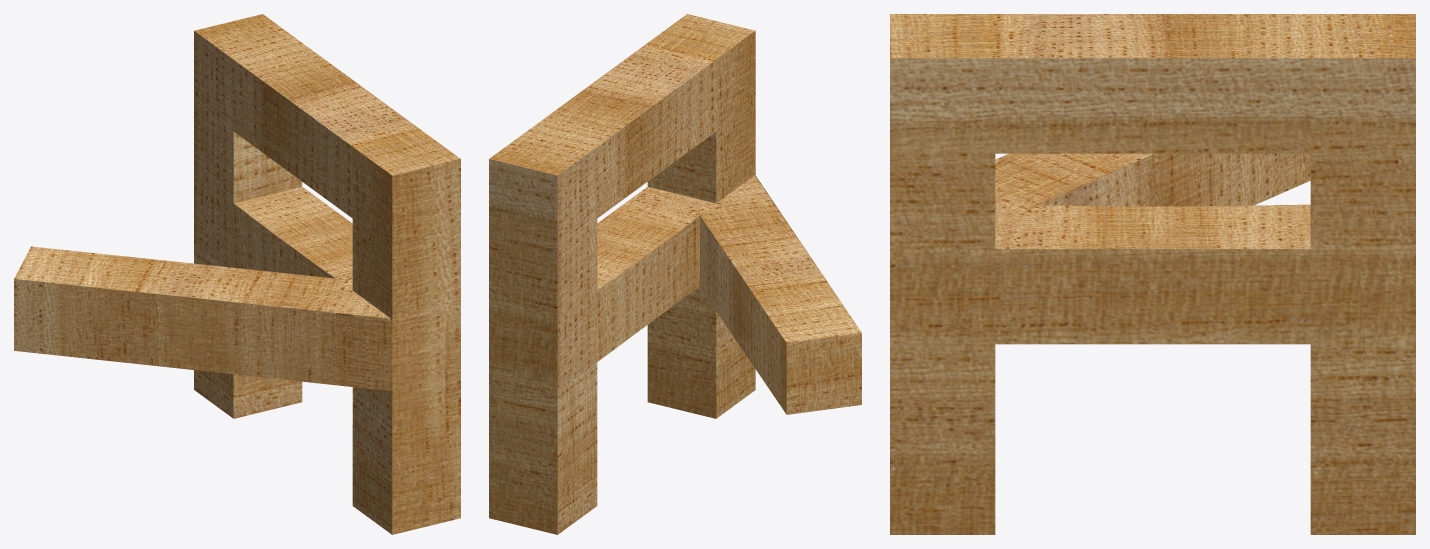
Rendered from vat_cube.glb.
3 renders of one model, left to right at view 1: azimuth 30°, elevation 25°; view 2: azimuth 150°, elevation 25°; view 3: azimuth 270°, elevation 25°, orthographic. The views are drawn at different scales.
Parts seen in each view (by area): view 1: vat_cube.005; view 2: vat_cube.005; view 3: vat_cube.005.
Part boxes in pixels (x1,y1,x2,y2): vat_cube.005: (14,14,460,534); vat_cube.005: (489,14,861,534); vat_cube.005: (890,14,1415,534).
Size of the model in its own units: 1.81 by 2 by 2.
1 material, 1 textured.
